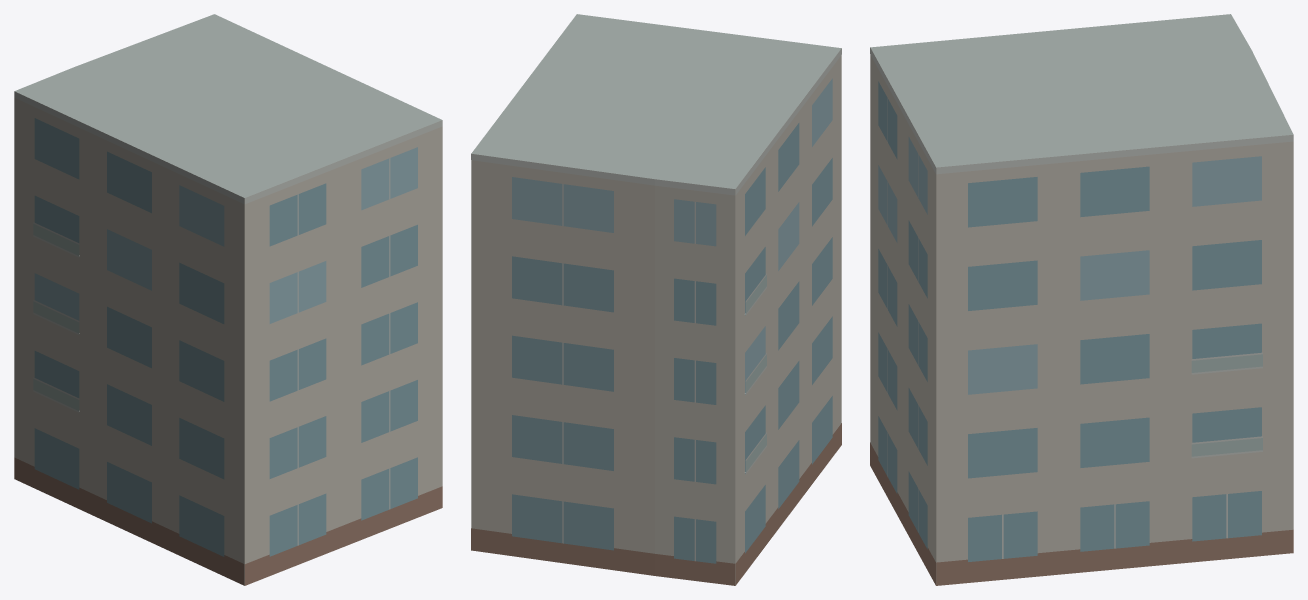
File: survey-upis-32707280.glb
The picture shows the model from 3 angles, left to right: view 1: azimuth 30°, elevation 25°; view 2: azimuth 150°, elevation 25°; view 3: azimuth 270°, elevation 25°; orthographic projection. The views are drawn at different scales.
Visible parts, largest first — view 1: survey-upis-32707280.tmp; view 2: survey-upis-32707280.tmp; view 3: survey-upis-32707280.tmp.
Part boxes in pixels (bbox=[...]): survey-upis-32707280.tmp: bbox=[14, 14, 442, 585]; survey-upis-32707280.tmp: bbox=[471, 14, 841, 585]; survey-upis-32707280.tmp: bbox=[870, 14, 1293, 585].
Size of the model in its own units: 11.86 by 15.05 by 13.82.
